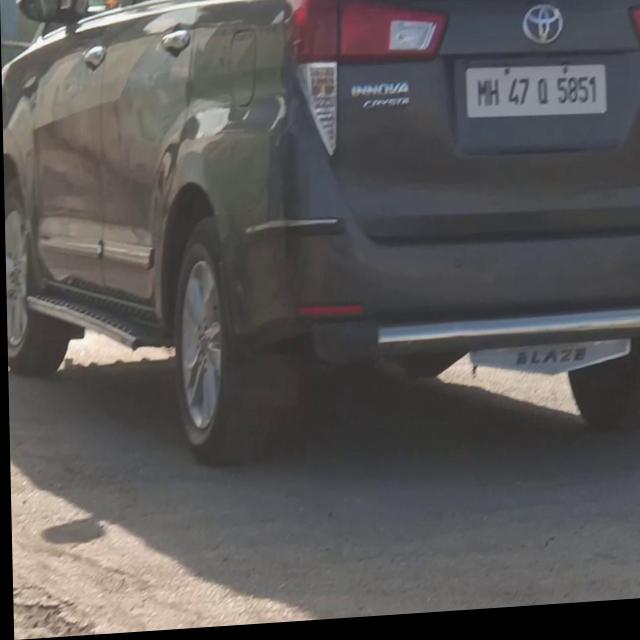1: (588, 84, 598, 112)
4: (508, 85, 520, 114)
5: (555, 85, 568, 113), (578, 84, 590, 112)
7: (518, 85, 530, 114)
8: (568, 86, 578, 112)
h: (487, 85, 500, 114)
m: (477, 87, 487, 113)
q: (536, 85, 549, 114)
